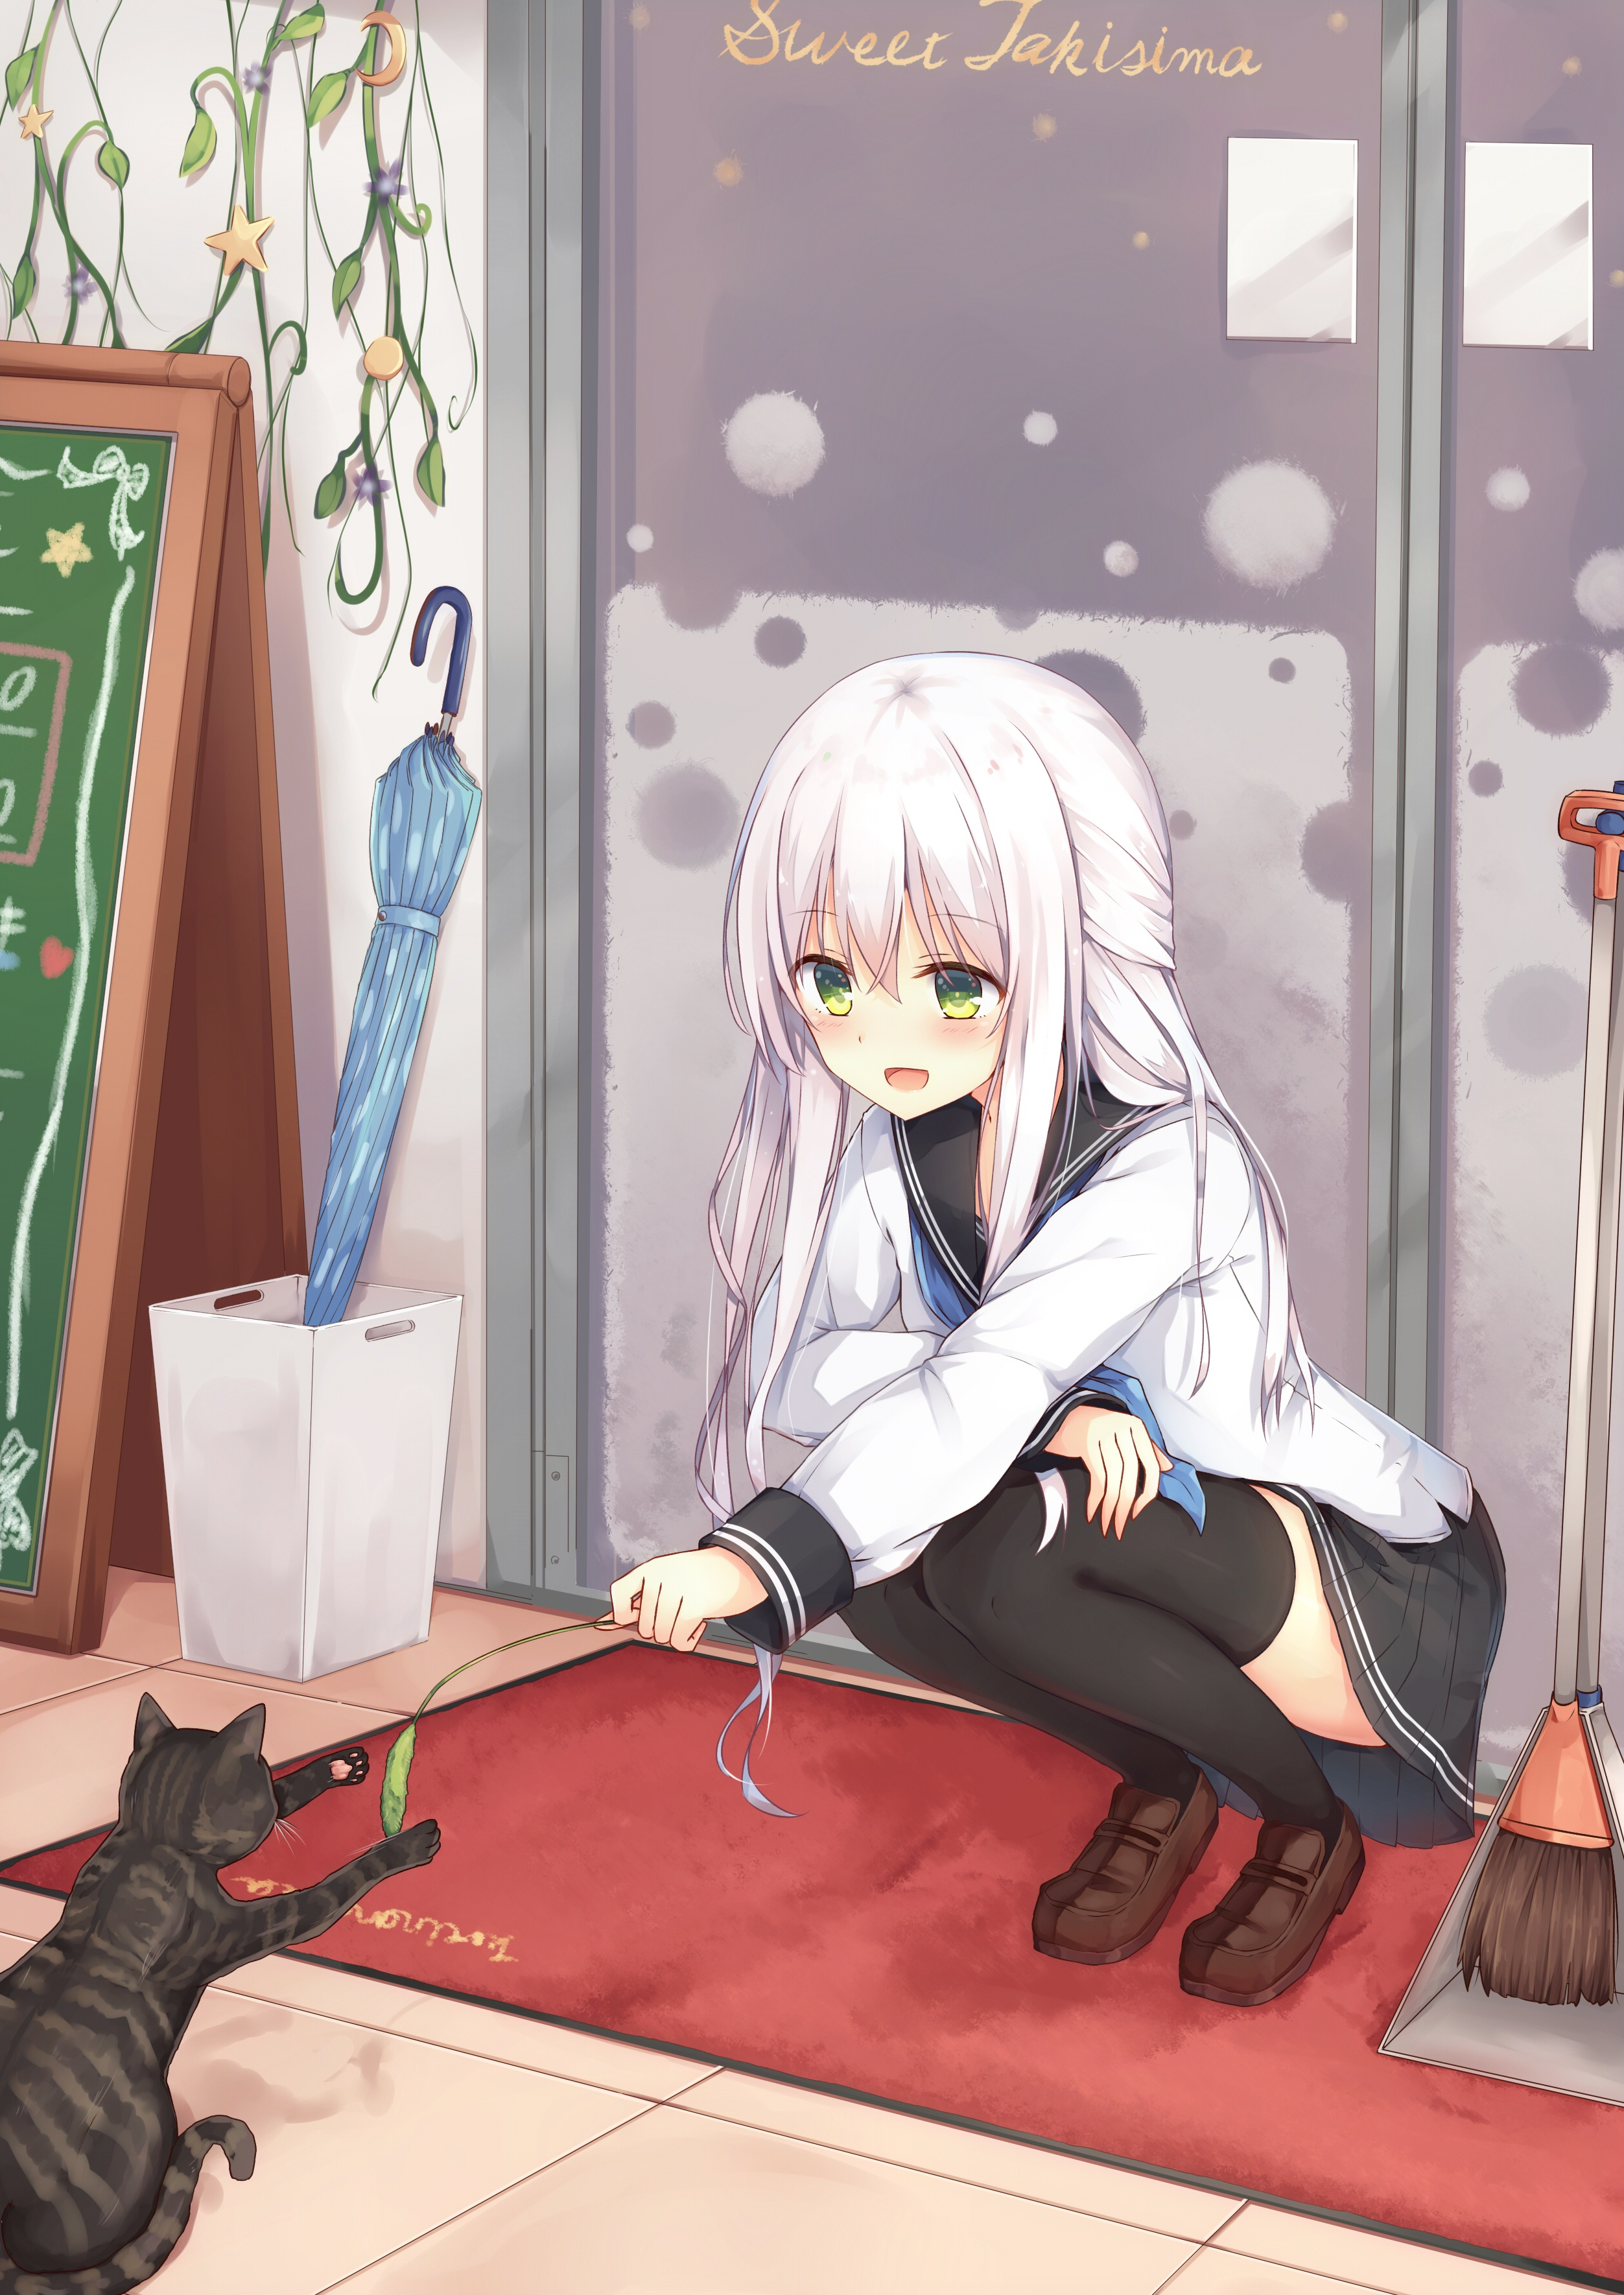纸片人正脸: (707, 637, 1183, 1139)
